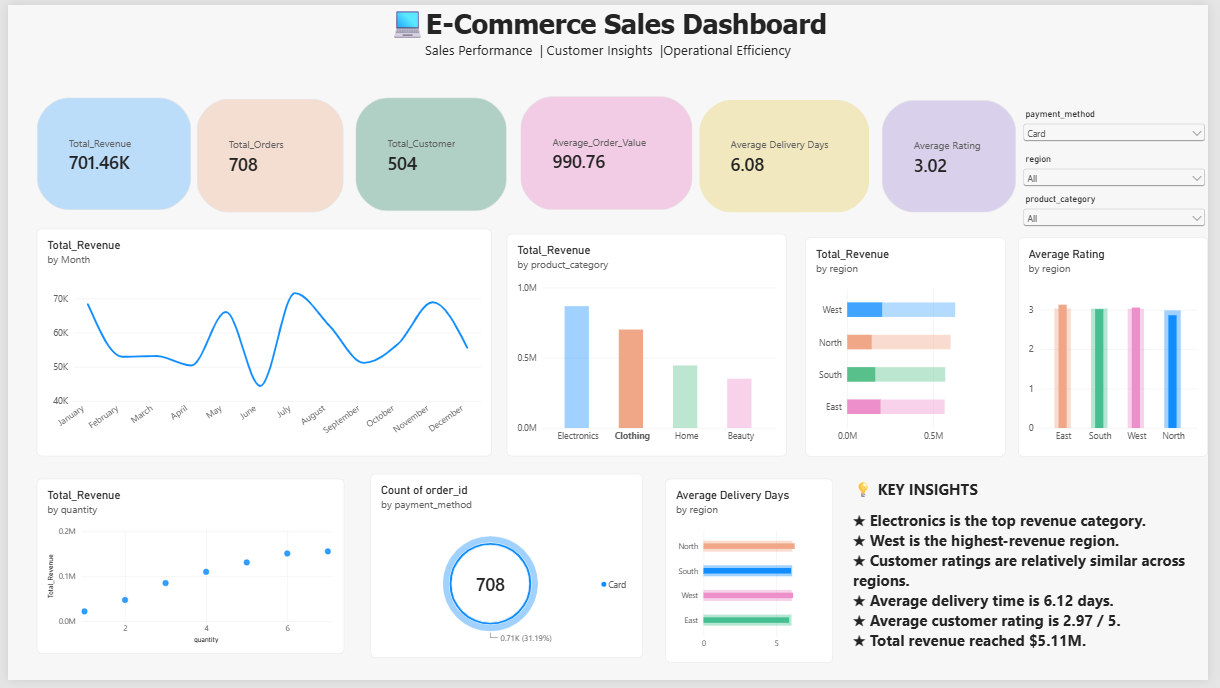

The page's visual inventory and layout, read from the dashboard file:
{"tool":"powerbi","page":{"name":"Page 1","canvas":[1920,1080],"ordinal":0},"visuals":[{"type":"cardVisual","fields":{"Data":["ecommerce_sales_cleaned.Total_Revenue"]},"box":[45,147.5,247.5,180],"z":0},{"type":"cardVisual","fields":{"Data":["ecommerce_sales_cleaned.Total_Orders"]},"box":[302.5,150,235,182.5],"z":1000},{"type":"cardVisual","fields":{"Data":["ecommerce_sales_cleaned.Total_Customer"]},"box":[555,147.5,242.5,182.5],"z":2000},{"type":"cardVisual","fields":{"Data":["ecommerce_sales_cleaned.Average_Order_Value"]},"box":[820,145,275,182.5],"z":3000},{"type":"cardVisual","fields":{"Data":["ecommerce_sales_cleaned.Average Rating"]},"box":[1397.5,152.5,215,180],"z":4000},{"type":"lineChart","title":"Monthly Revenue Trend","fields":{"Category":["ecommerce_sales_cleaned.month.Variation.Date Hierarchy.Month","ecommerce_sales_cleaned.month.Variation.Date Hierarchy.Day"],"Y":["ecommerce_sales_cleaned.Total_Revenue"]},"box":[46,358,728,364],"z":5000},{"type":"clusteredColumnChart","title":"Revenue by Product Category","fields":{"Category":["ecommerce_sales_cleaned.product_category"],"Y":["ecommerce_sales_cleaned.Total_Revenue"]},"box":[798,366,448,356],"z":6000},{"type":"clusteredBarChart","title":"Revenue by Region","fields":{"Category":["ecommerce_sales_cleaned.region"],"Y":["ecommerce_sales_cleaned.Total_Revenue"]},"box":[1276,372,320,350],"z":7000},{"type":"scatterChart","title":"Quantity vs Revenue","fields":{"X":["ecommerce_sales_cleaned.quantity"],"Y":["ecommerce_sales_cleaned.Total_Revenue"]},"box":[46,758,491.7,280],"z":8000},{"type":"donutChart","title":"Orders by Payment Method","fields":{"Category":["ecommerce_sales_cleaned.payment_method"],"Y":["CountNonNull(ecommerce_sales_cleaned.order_id)"]},"box":[580,750,436,294],"z":9000},{"type":"clusteredColumnChart","title":"Average Customer Rating by Region","fields":{"Category":["ecommerce_sales_cleaned.region"],"Y":["ecommerce_sales_cleaned.Average Rating"]},"box":[1616,372,304,350],"z":10000},{"type":"clusteredBarChart","title":"Average Delivery Time by Region","fields":{"Category":["ecommerce_sales_cleaned.region"],"Y":["ecommerce_sales_cleaned.Average Delivery Days"]},"box":[1052,758,268,294],"z":11000},{"type":"textbox","box":[0,0,1920,110],"z":12000},{"type":"textbox","box":[1280,1052,280,28],"z":13000},{"type":"textbox","box":[1352,758,568,294],"z":14000},{"type":"cardVisual","fields":{"Data":["ecommerce_sales_cleaned.Average Delivery Days"]},"box":[1105,152.5,272.5,180],"z":15000},{"type":"slicer","fields":{"Values":["ecommerce_sales_cleaned.product_category"]},"box":[1620,302.5,300,70],"z":15001},{"type":"slicer","fields":{"Values":["ecommerce_sales_cleaned.region"]},"box":[1620,237.5,300,60],"z":15002},{"type":"slicer","fields":{"Values":["ecommerce_sales_cleaned.payment_method"]},"box":[1620,165,300,75],"z":15003}]}

Visuals, with their boxes in screenshot pixels (x1, y1, x2, y2), scaled from the page's 1920x1080 canvas onto the 1220x688 screenshot:
cardVisual - ecommerce_sales_cleaned.Total_Revenue: [29,94,186,209]
cardVisual - ecommerce_sales_cleaned.Total_Orders: [192,96,342,212]
cardVisual - ecommerce_sales_cleaned.Total_Customer: [353,94,507,210]
cardVisual - ecommerce_sales_cleaned.Average_Order_Value: [521,92,696,209]
cardVisual - ecommerce_sales_cleaned.Average Rating: [888,97,1025,212]
"Monthly Revenue Trend" lineChart: [29,228,492,460]
"Revenue by Product Category" clusteredColumnChart: [507,233,792,460]
"Revenue by Region" clusteredBarChart: [811,237,1014,460]
"Quantity vs Revenue" scatterChart: [29,483,342,661]
"Orders by Payment Method" donutChart: [369,478,646,665]
"Average Customer Rating by Region" clusteredColumnChart: [1027,237,1219,460]
"Average Delivery Time by Region" clusteredBarChart: [668,483,839,670]
textbox: [0,0,1219,70]
textbox: [813,670,991,687]
textbox: [859,483,1219,670]
cardVisual - ecommerce_sales_cleaned.Average Delivery Days: [702,97,875,212]
slicer - ecommerce_sales_cleaned.product_category: [1029,193,1219,237]
slicer - ecommerce_sales_cleaned.region: [1029,151,1219,190]
slicer - ecommerce_sales_cleaned.payment_method: [1029,105,1219,153]
